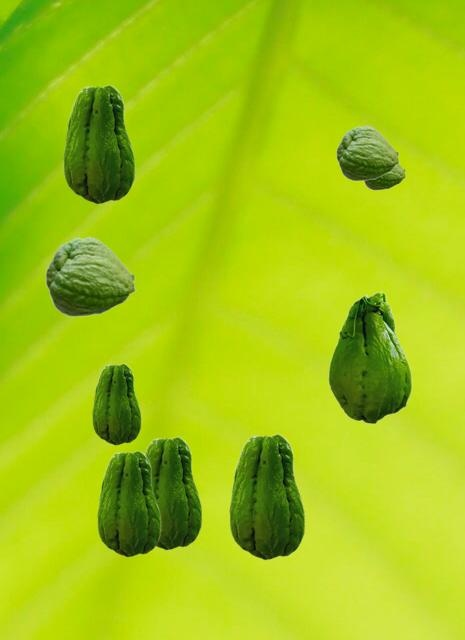sayote: (328, 291, 411, 423), (229, 433, 304, 559), (63, 84, 134, 203), (45, 236, 136, 316), (97, 450, 160, 556), (144, 436, 201, 549), (92, 363, 140, 444), (336, 125, 399, 180), (363, 164, 405, 189)
